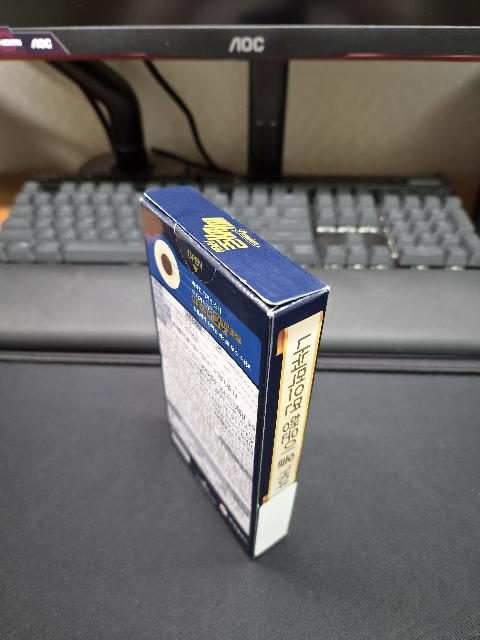pepero: (140, 185, 330, 559)
